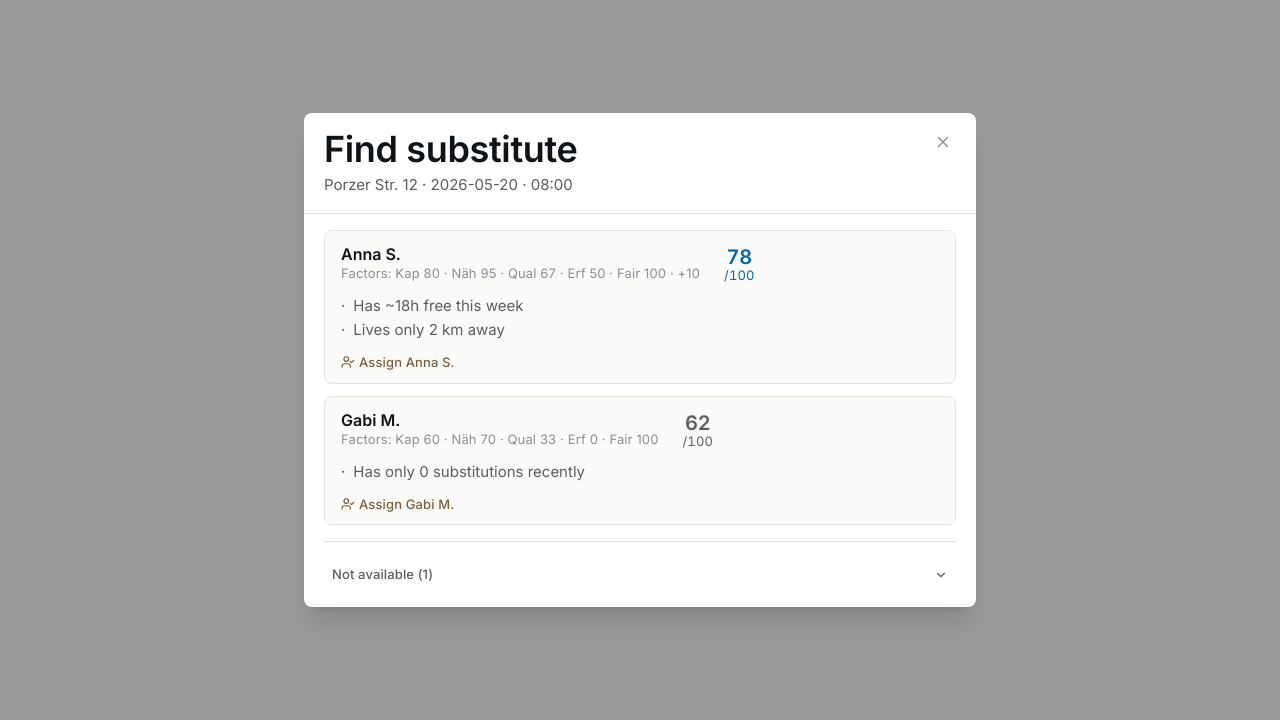
ReassignmentPickerModal (ELE-203) › Blocked-Liste ist eingeklappt by default und expandierbar
The image size is (1280, 720).
expect the text "Daniel K." is not shown: met
# Klick auf Toggle
Click the button with test id "reassignment-blocked-toggle".
click(383, 574)  # box [324,558,956,591]
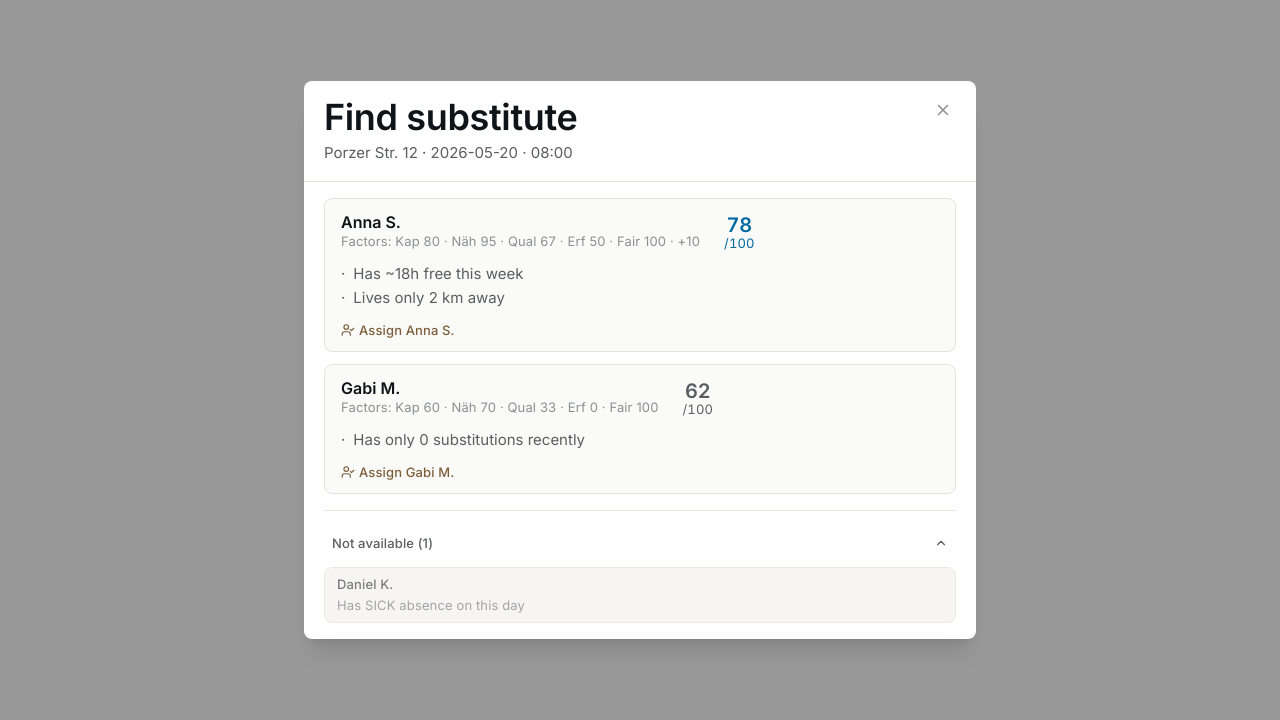
expect the text "Daniel K." is shown: met, box [337,576,393,592]
expect the list item "Has SICK absence on this day" is shown: met, box [337,597,525,613]
